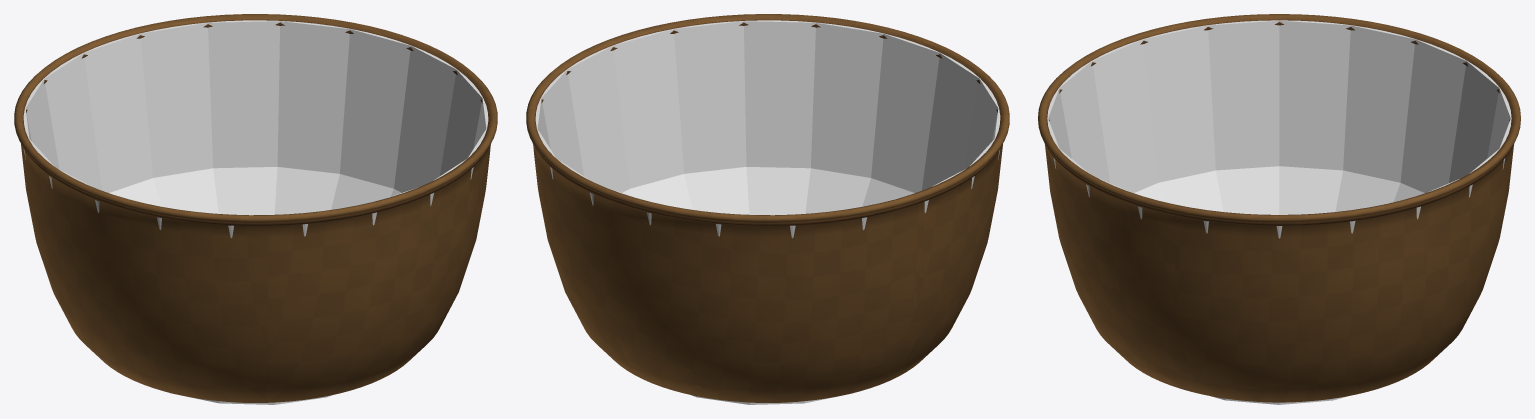
Rendered from RiceBasket.fbx.
3 views of the same model, side by side, from view 1: azimuth 30°, elevation 25°; view 2: azimuth 150°, elevation 25°; view 3: azimuth 270°, elevation 25° (orthographic).
Visible parts, largest first — view 1: RiceBasket, COL_RiceBasket_Wall_02_04, COL_RiceBasket_Wall_02_03, COL_RiceBasket_Wall_02_05, COL_RiceBasket_Wall_02_02, COL_RiceBasket_Wall_02_06, COL_RiceBasket_Wall_02_01, COL_RiceBasket_Wall_02_07, COL_RiceBasket_Wall_01_04, COL_RiceBasket_Wall_01_03, COL_RiceBasket_Wall_02_20, COL_RiceBasket_Wall_01_05 (+3 smaller); view 2: RiceBasket, COL_RiceBasket_Wall_02_17, COL_RiceBasket_Wall_02_18, COL_RiceBasket_Wall_02_16, COL_RiceBasket_Wall_02_19, COL_RiceBasket_Wall_02_15, COL_RiceBasket_Wall_02_20, COL_RiceBasket_Wall_02_14, COL_RiceBasket_Wall_01_17, COL_RiceBasket_Wall_01_18, COL_RiceBasket_Wall_02_01, COL_RiceBasket_Wall_01_16 (+3 smaller); view 3: RiceBasket, COL_RiceBasket_Wall_02_10, COL_RiceBasket_Wall_02_11, COL_RiceBasket_Wall_02_09, COL_RiceBasket_Wall_02_12, COL_RiceBasket_Wall_02_08, COL_RiceBasket_Wall_02_13, COL_RiceBasket_Wall_02_07, COL_RiceBasket_Wall_02_14, COL_RiceBasket_Wall_01_10, COL_RiceBasket_Wall_01_11, COL_RiceBasket_Wall_01_09 (+3 smaller).
Part boxes in pixels (bbox=[...]): RiceBasket: bbox=[14, 14, 497, 402]; COL_RiceBasket_Wall_02_04: bbox=[208, 20, 280, 168]; COL_RiceBasket_Wall_02_03: bbox=[277, 21, 350, 173]; COL_RiceBasket_Wall_02_05: bbox=[140, 22, 212, 177]; COL_RiceBasket_Wall_02_02: bbox=[340, 29, 410, 188]; COL_RiceBasket_Wall_02_06: bbox=[83, 33, 152, 192]; COL_RiceBasket_Wall_02_01: bbox=[394, 45, 456, 192]; COL_RiceBasket_Wall_02_07: bbox=[44, 53, 101, 190]; COL_RiceBasket_Wall_01_04: bbox=[213, 167, 277, 215]; COL_RiceBasket_Wall_01_03: bbox=[274, 167, 339, 214]; COL_RiceBasket_Wall_02_20: bbox=[440, 69, 482, 175]; COL_RiceBasket_Wall_01_05: bbox=[153, 168, 218, 213]; RiceBasket: bbox=[526, 14, 1009, 402]; COL_RiceBasket_Wall_02_17: bbox=[743, 20, 815, 168]; COL_RiceBasket_Wall_02_18: bbox=[673, 21, 746, 173]; COL_RiceBasket_Wall_02_16: bbox=[811, 22, 883, 177]; COL_RiceBasket_Wall_02_19: bbox=[613, 29, 683, 188]; COL_RiceBasket_Wall_02_15: bbox=[871, 33, 940, 192]; COL_RiceBasket_Wall_02_20: bbox=[567, 45, 629, 192]; COL_RiceBasket_Wall_02_14: bbox=[922, 53, 979, 190]; COL_RiceBasket_Wall_01_17: bbox=[746, 167, 810, 215]; COL_RiceBasket_Wall_01_18: bbox=[684, 167, 749, 214]; COL_RiceBasket_Wall_02_01: bbox=[541, 69, 583, 175]; COL_RiceBasket_Wall_01_16: bbox=[805, 168, 870, 213]; RiceBasket: bbox=[1038, 14, 1520, 402]; COL_RiceBasket_Wall_02_10: bbox=[1279, 20, 1350, 170]; COL_RiceBasket_Wall_02_11: bbox=[1208, 20, 1279, 170]; COL_RiceBasket_Wall_02_09: bbox=[1343, 25, 1415, 182]; COL_RiceBasket_Wall_02_12: bbox=[1143, 25, 1215, 182]; COL_RiceBasket_Wall_02_08: bbox=[1400, 39, 1466, 193]; COL_RiceBasket_Wall_02_13: bbox=[1092, 39, 1158, 193]; COL_RiceBasket_Wall_02_07: bbox=[1449, 61, 1499, 182]; COL_RiceBasket_Wall_02_14: bbox=[1059, 61, 1109, 182]; COL_RiceBasket_Wall_01_10: bbox=[1279, 166, 1342, 214]; COL_RiceBasket_Wall_01_11: bbox=[1216, 166, 1279, 214]; COL_RiceBasket_Wall_01_09: bbox=[1335, 170, 1400, 211].
Bounding box in the file's own units: 0.38 × 0.2 × 0.38.
Materials: 2 (2 with a texture image).
